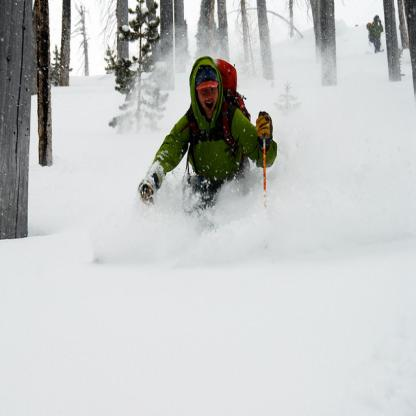backpack: (213, 58, 251, 121)
